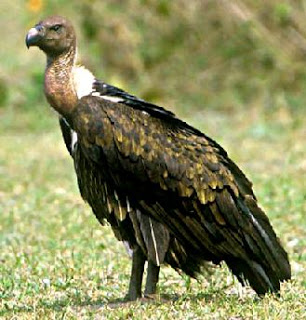Pengoyak Daging: (19, 24, 40, 51)
